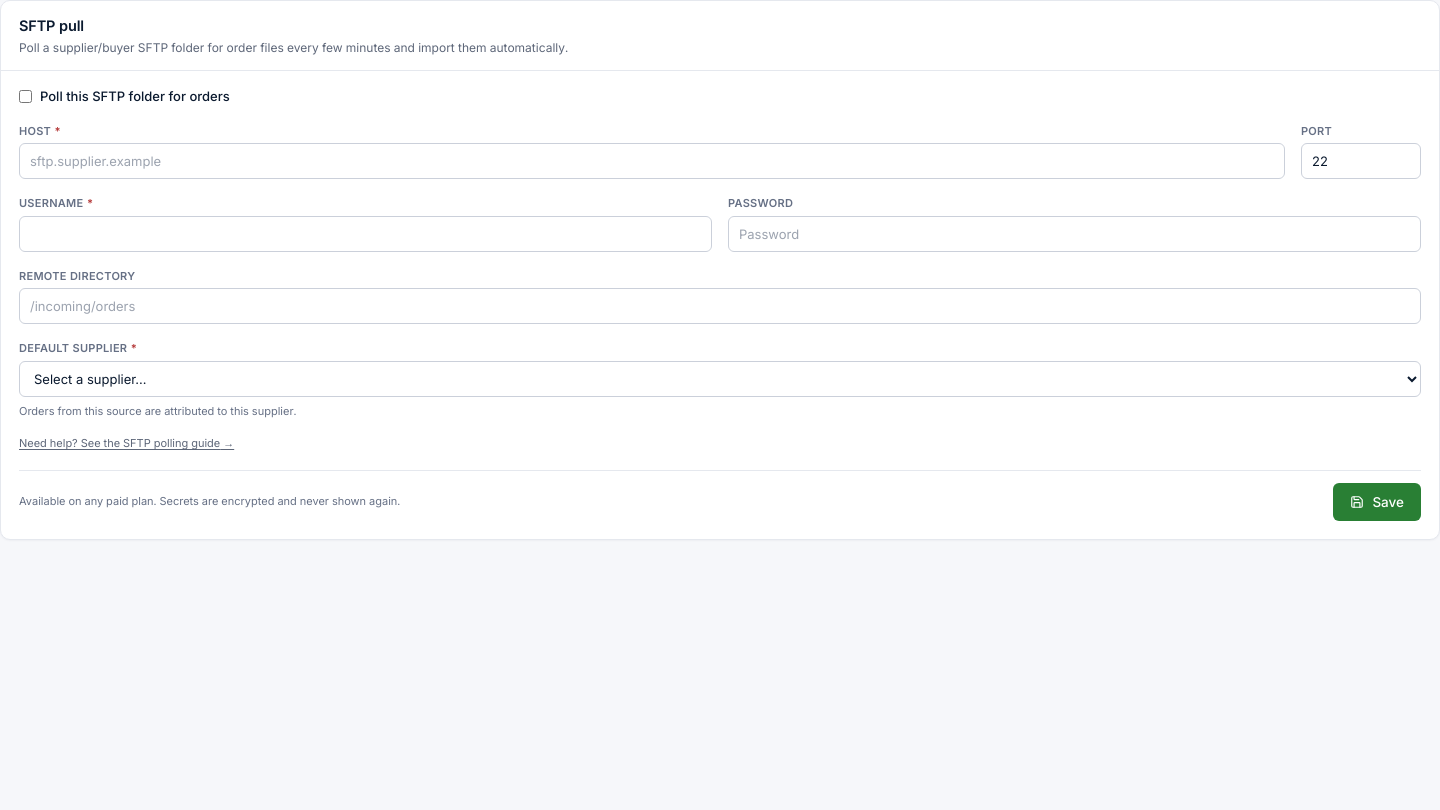
sftp panel — a save failure is a sentence, not a status line › never shows the client-built `settings/<x>: <status>` label to a customer
Expected: the checkbox labelled "Poll this SFTP folder for orders" is shown, [19,90,32,103]
Click the button "Save": click(1377, 502) [1333,483,1421,521]
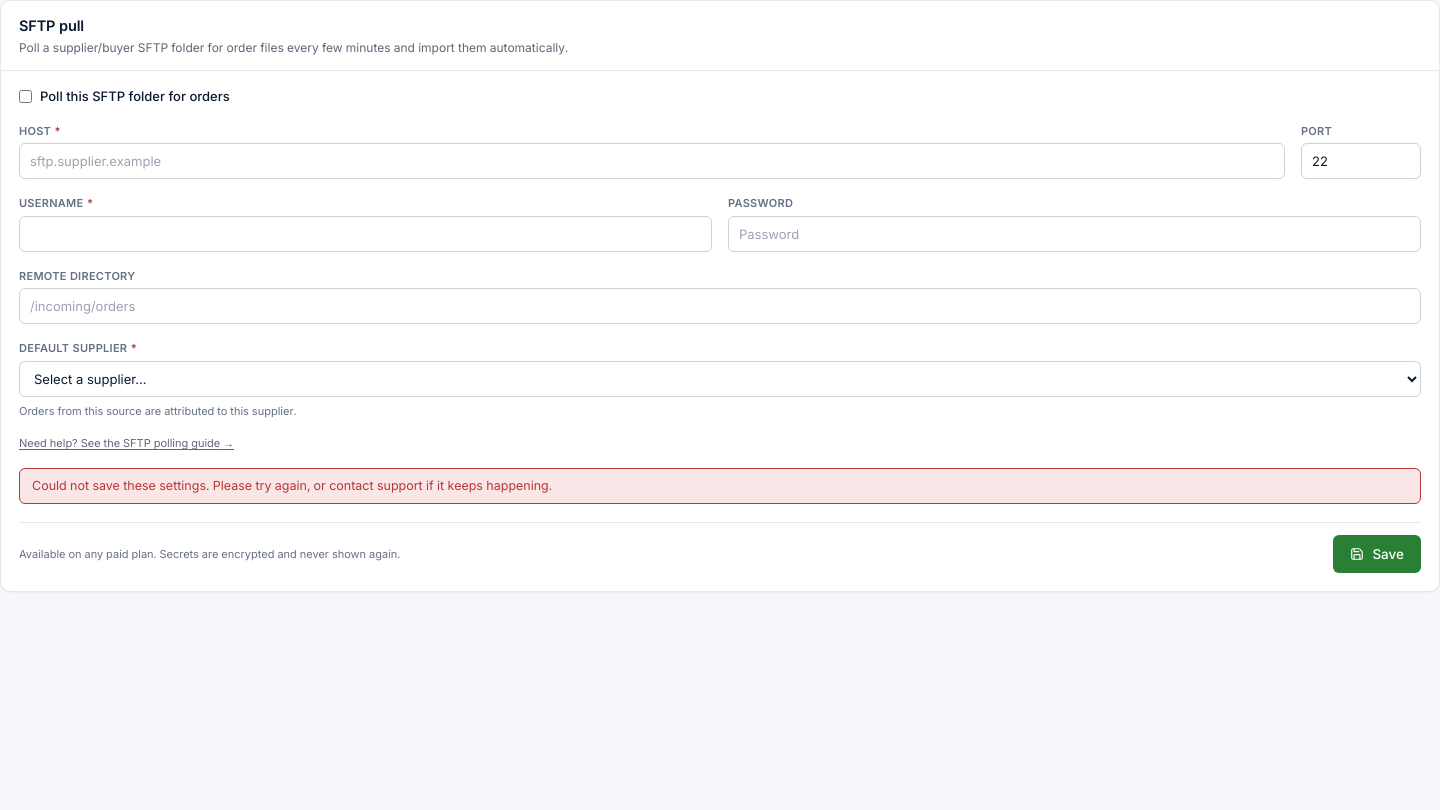
Expected: the message shows "Could not save these settings", [32,478,552,493]
